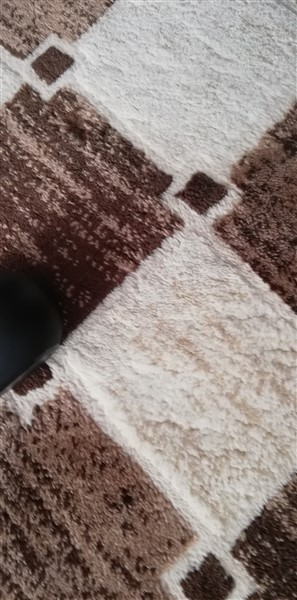mouse: (1, 251, 75, 398)
